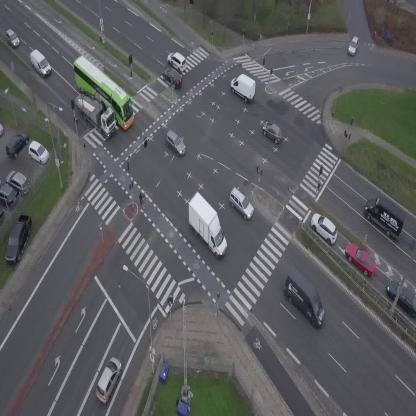bicycle: (136, 192, 147, 209)
bus: (64, 53, 144, 130)
car: (340, 237, 382, 281), (91, 355, 126, 405), (306, 209, 343, 247), (224, 187, 258, 221), (160, 129, 191, 158), (258, 118, 287, 146), (158, 65, 186, 93), (163, 48, 191, 74), (1, 28, 22, 51), (346, 35, 361, 56)
lorry: (175, 190, 240, 261), (274, 266, 337, 330), (68, 85, 125, 140), (356, 191, 413, 244), (226, 69, 261, 104), (25, 47, 55, 77)
